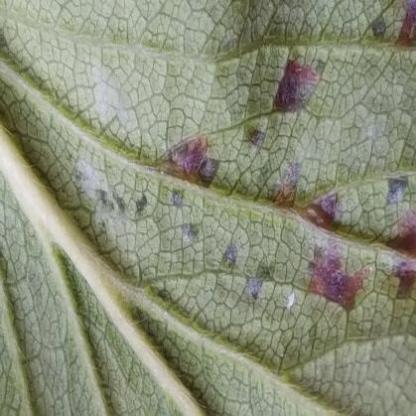Strawberry_Angular_LeafSpot: (65, 0, 415, 319)
